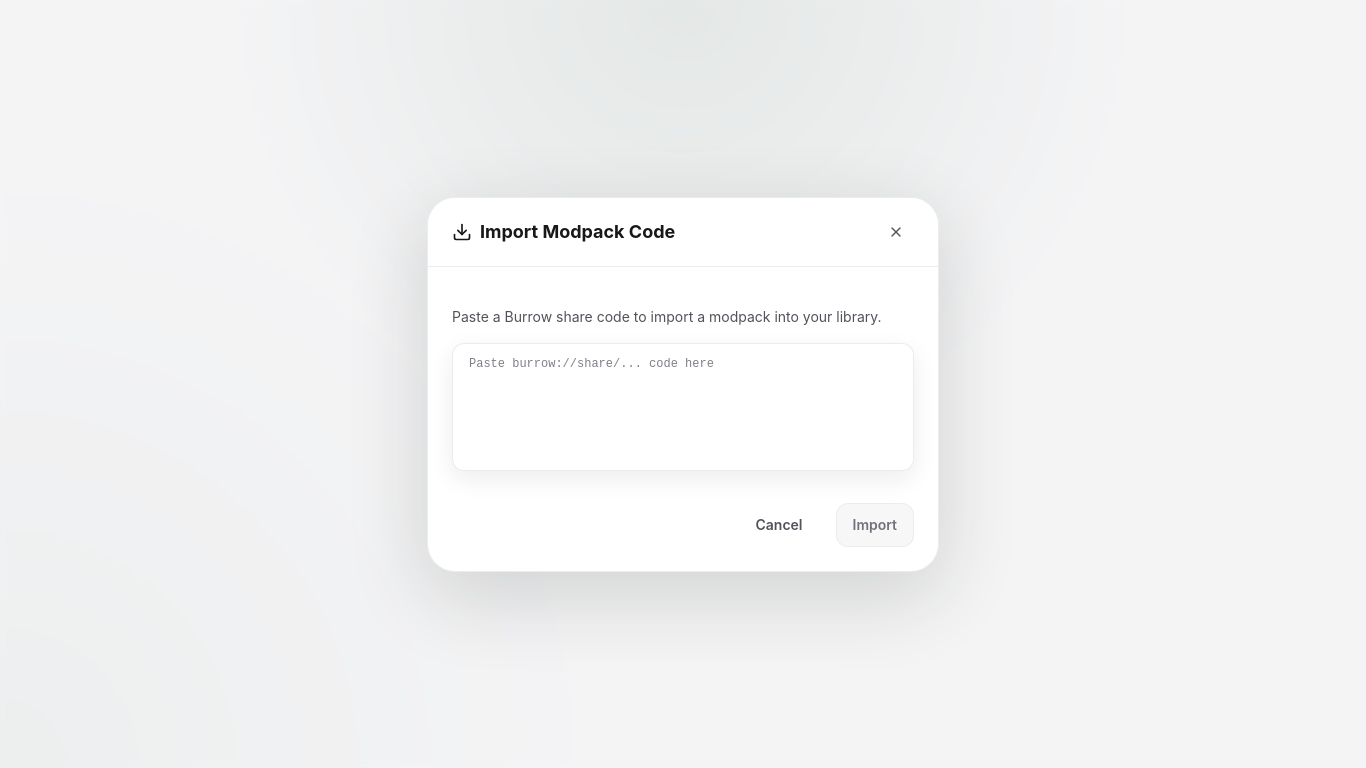
Scenario: share flows › sanitizes import wrapper failures before showing them inline
Type "burrow://share/broken-pack" into the text box labelled "Paste burrow://share/... code here" at (683, 406), box x1=452 y1=342 x2=914 y2=470
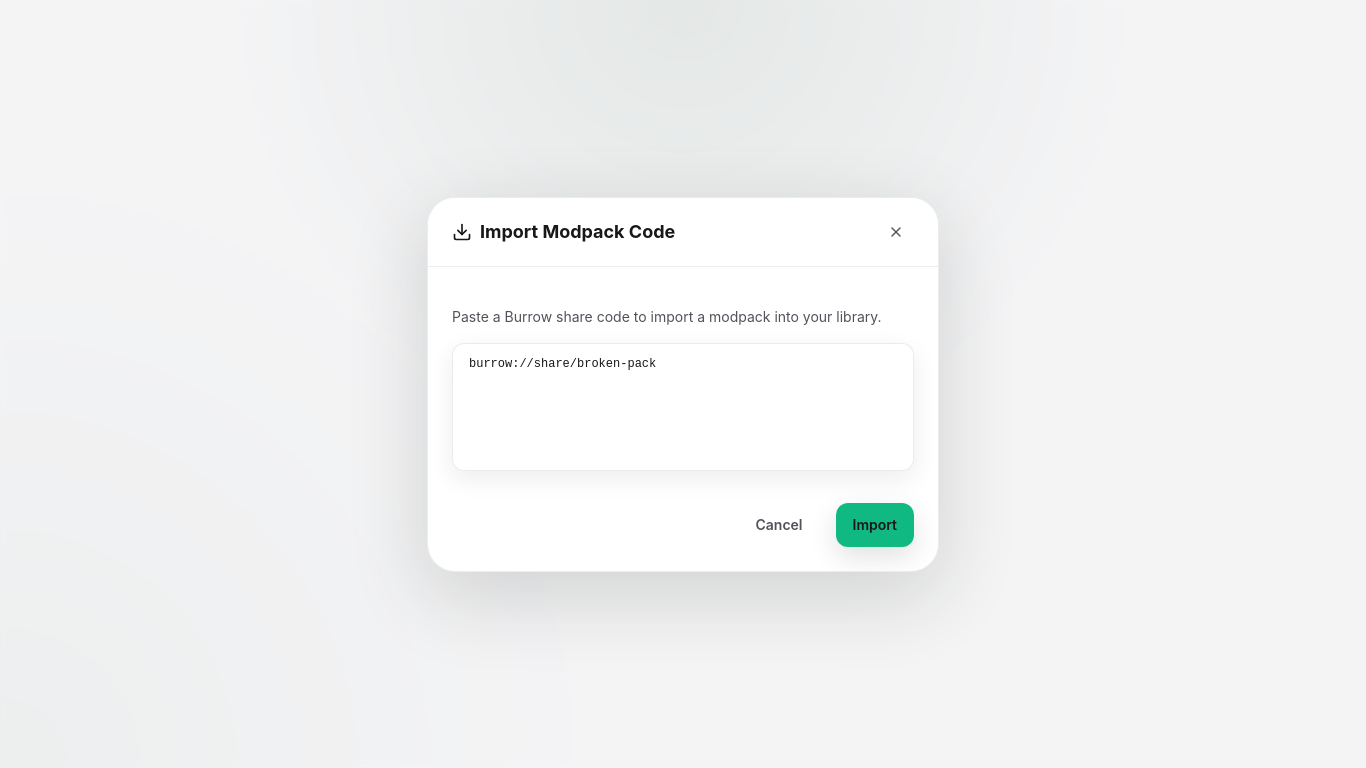
Click the button "Import" at (875, 524), box x1=836 y1=502 x2=914 y2=546
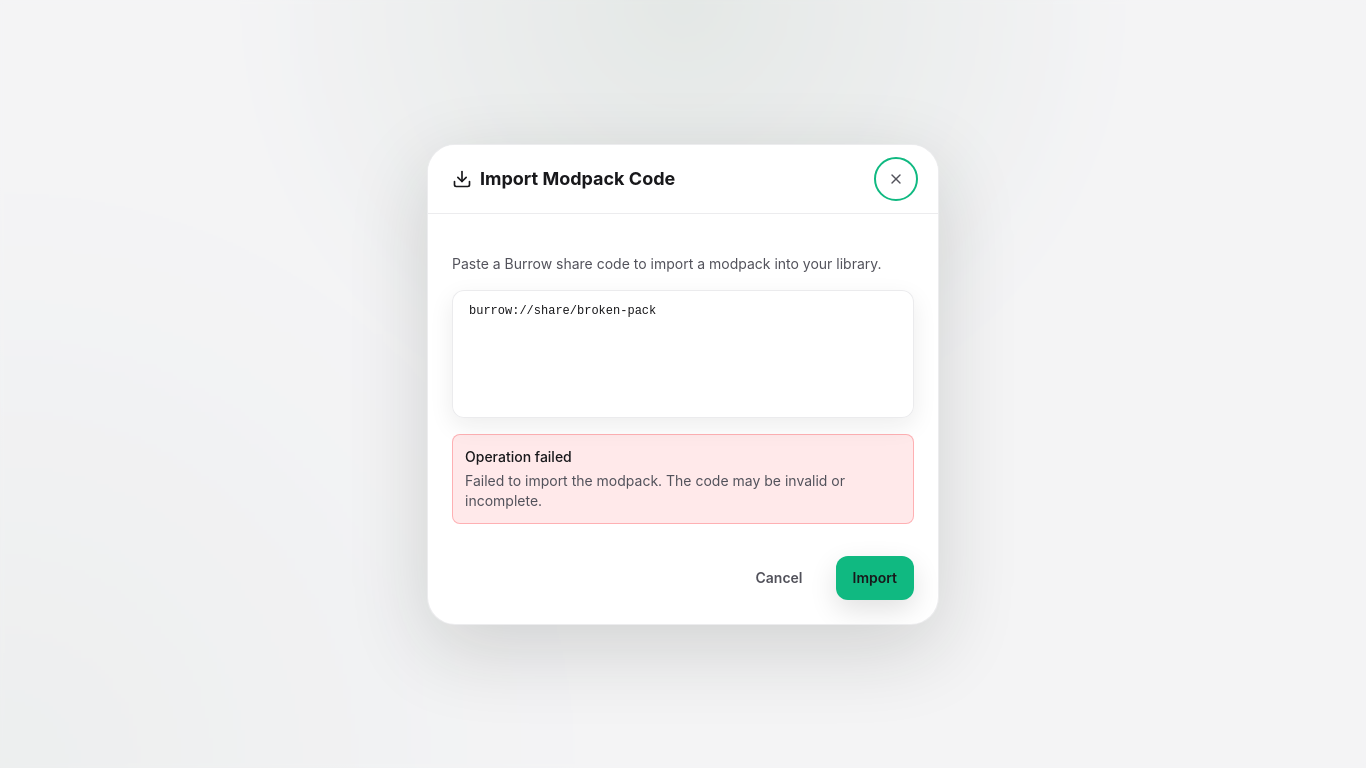
Expected: the message shows "Failed to import the modpack. The code may be invalid or incomplete.", x1=465 y1=472 x2=845 y2=508
